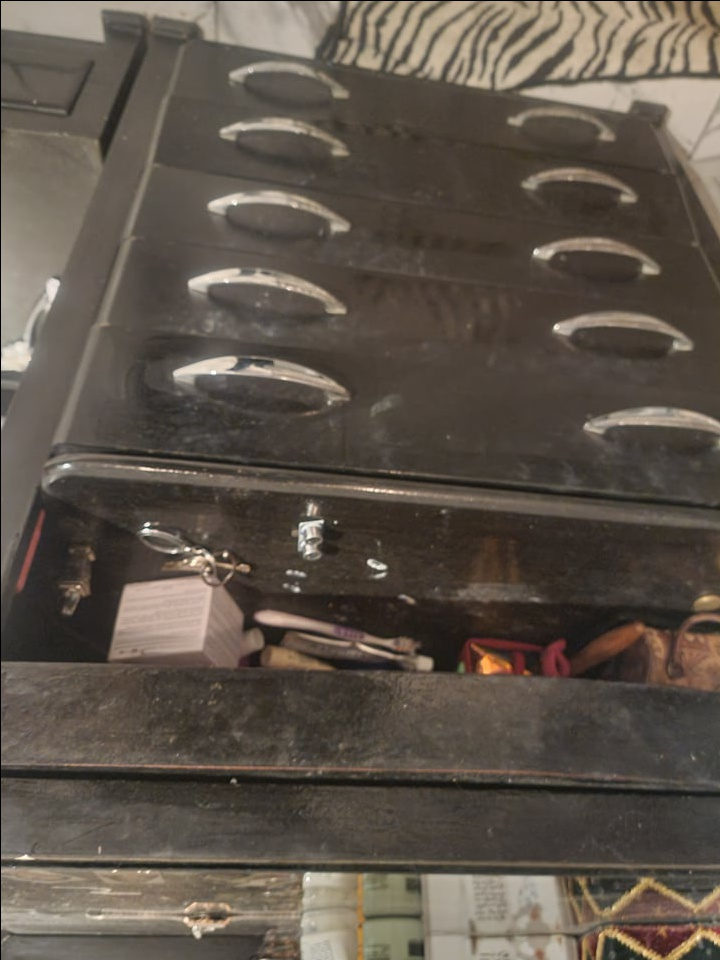SENSOR: (294, 517, 325, 562)
